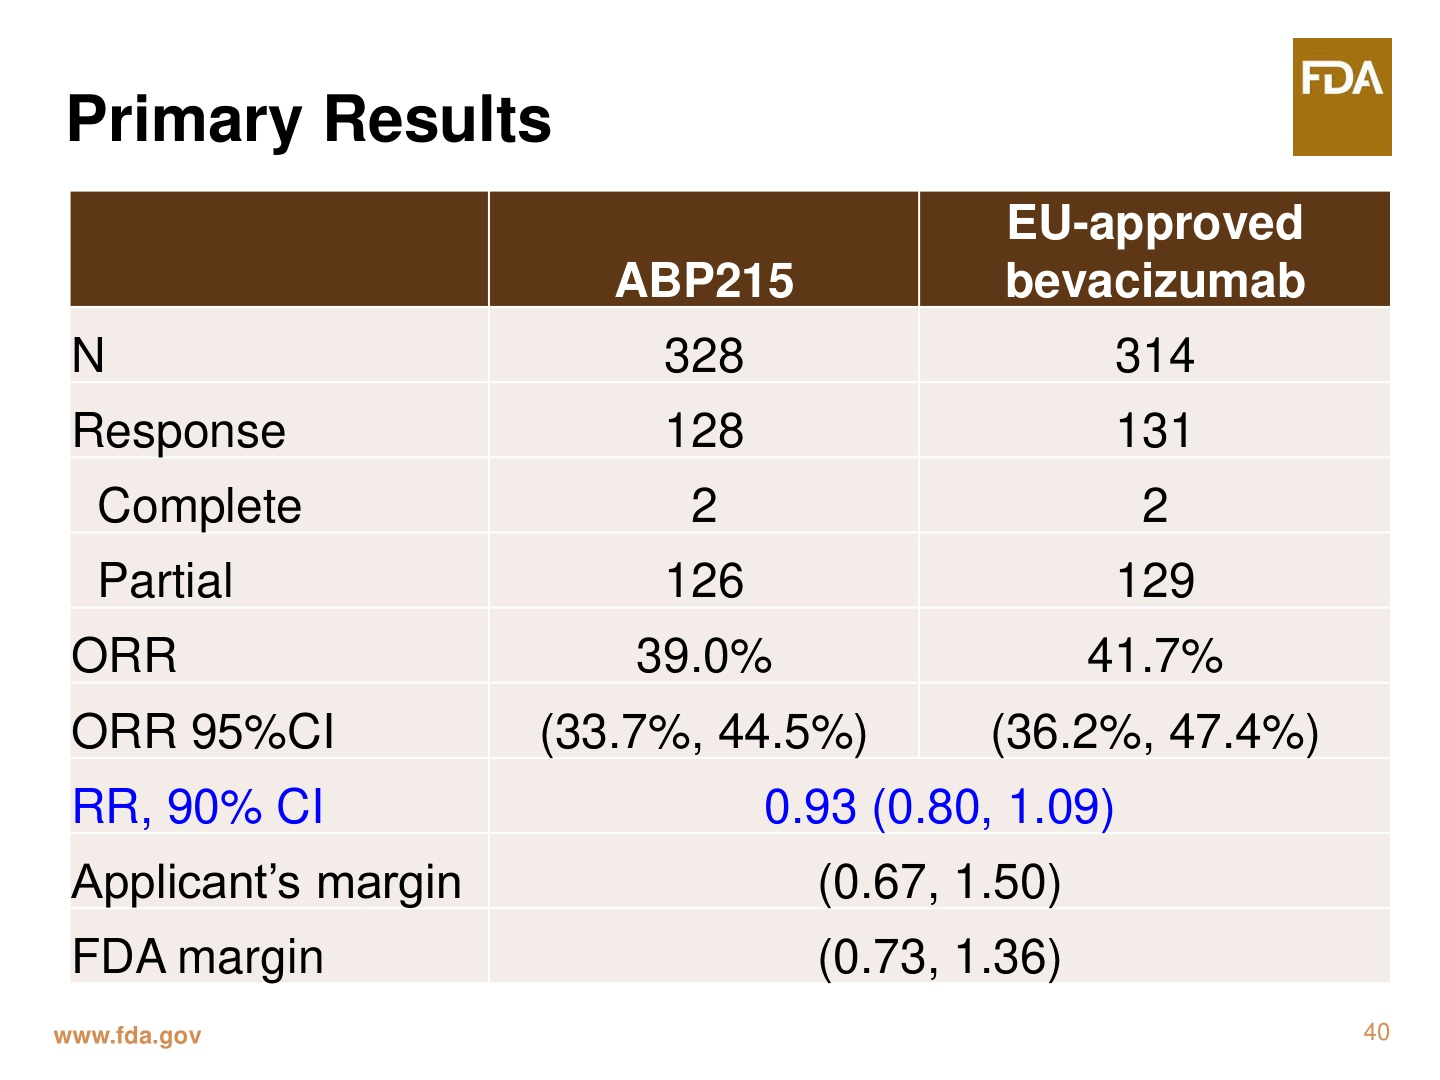merged_cells: (69, 189, 1391, 982)
